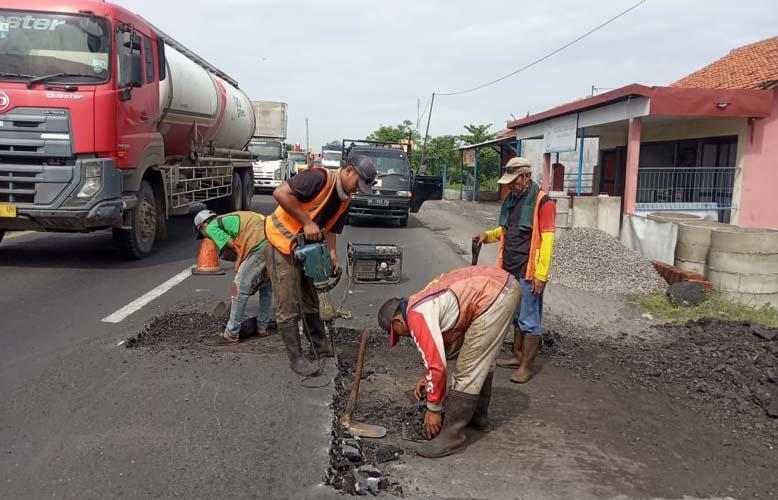Pothole: (89, 298, 427, 494)
